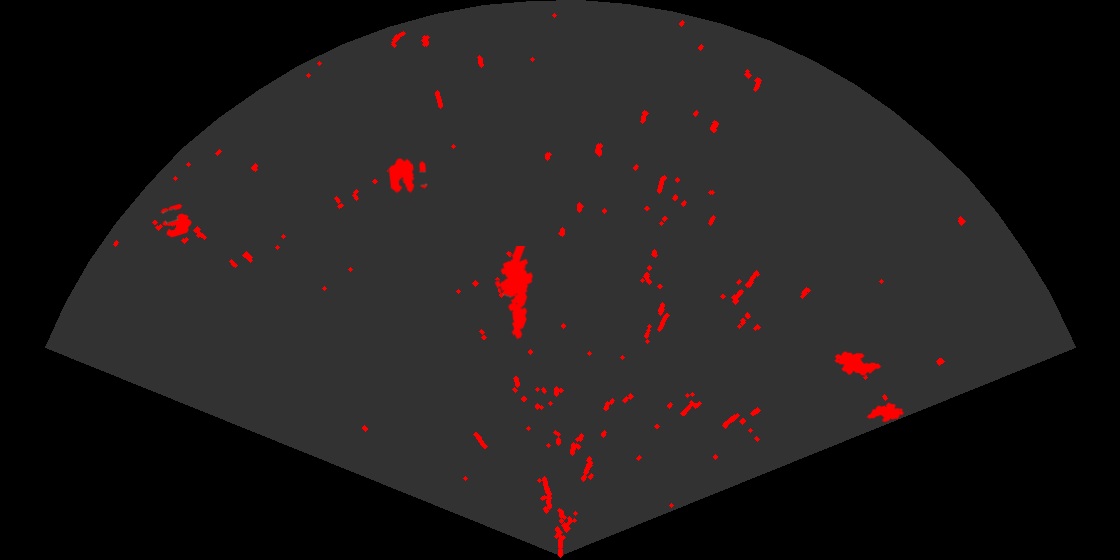AUV: (833, 350, 883, 377), (865, 401, 906, 424)
ball: (387, 157, 430, 195), (159, 202, 193, 239)
frogman: (493, 246, 535, 341)
